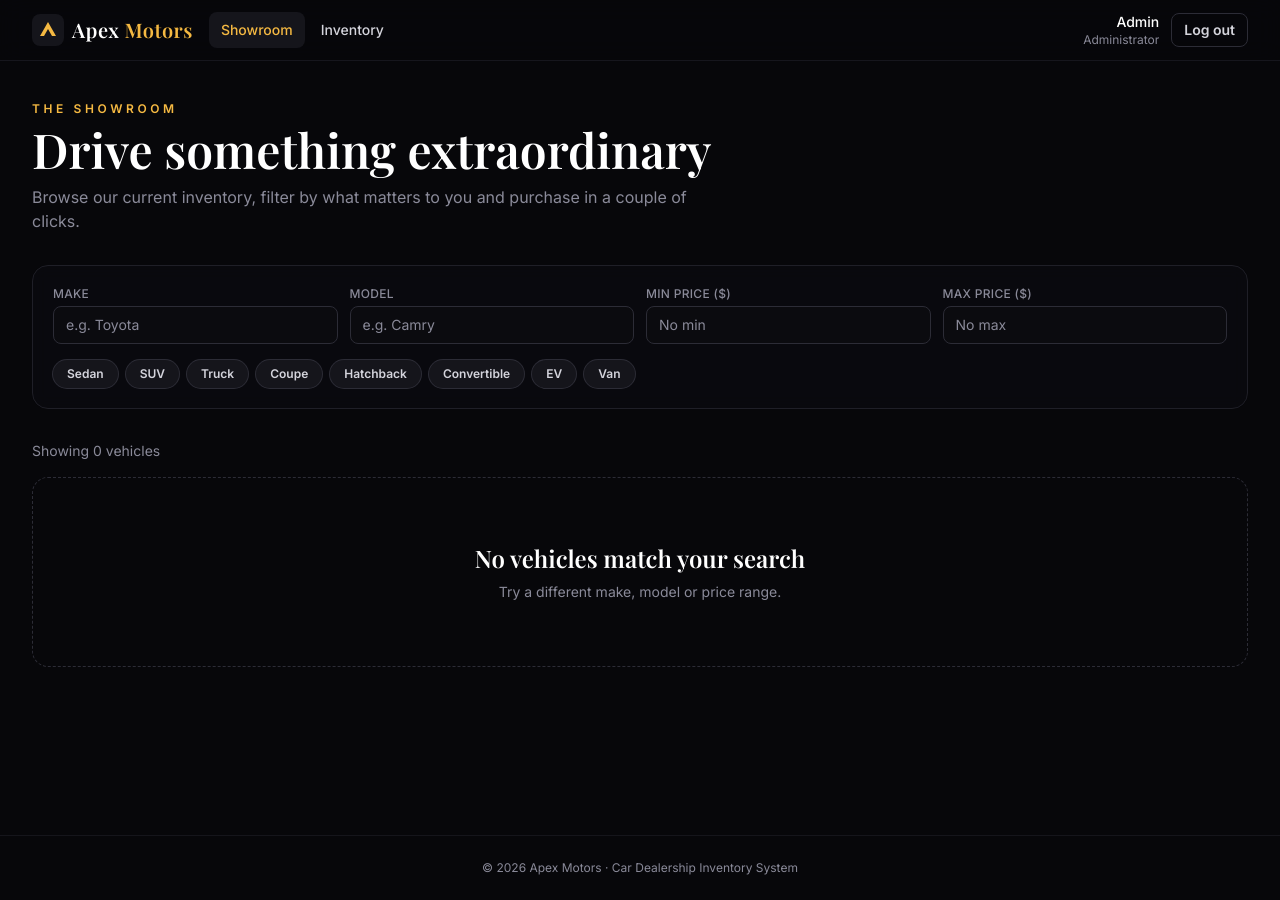
Test: App routing › gives an admin the Inventory link and page
What coordinates should you click on to do the following:
click the link "Inventory"
I would click on:
 (352, 30)
Its box is [321, 21, 384, 38].
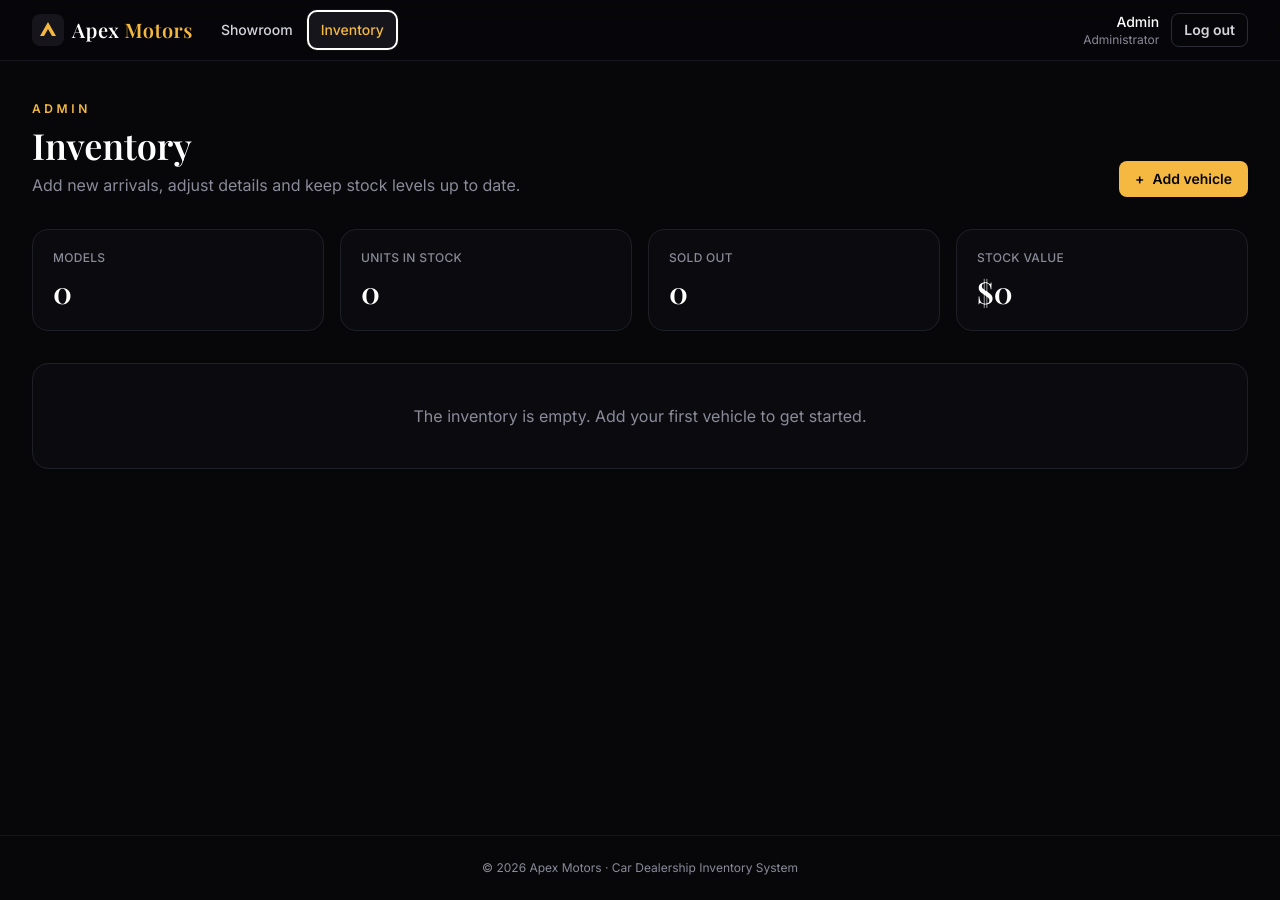
Now the heading "Inventory" is shown, box [32, 121, 192, 169]
